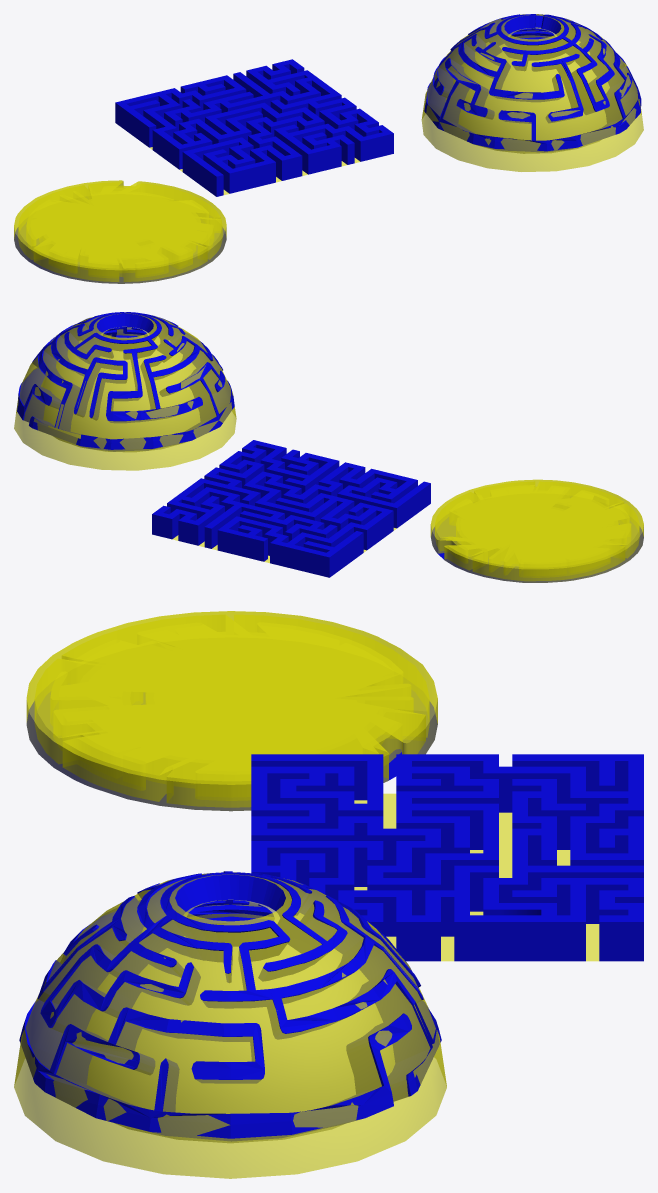
The model's file is labyrint.fbx.
3 renders of one model, top to bottom at view 1: azimuth 30°, elevation 25°; view 2: azimuth 150°, elevation 25°; view 3: azimuth 270°, elevation 25°, orthographic. The views are drawn at different scales.
Parts seen in each view (by area): view 1: polySurface4, nurbsToPoly3, extrudedSurface4, nurbsToPoly2, nurbsToPoly4, extrudedSurface3; view 2: polySurface4, nurbsToPoly3, extrudedSurface4, nurbsToPoly2, nurbsToPoly4, extrudedSurface3; view 3: nurbsToPoly3, polySurface4, nurbsToPoly2, extrudedSurface4, nurbsToPoly4, pPlane1, extrudedSurface3.
Boxes of the visible parts, x1,y1,x2,y2 form: polySurface4: (115,59,393,196); nurbsToPoly3: (421,14,643,171); extrudedSurface4: (14,180,226,283); nurbsToPoly2: (424,14,641,152); nurbsToPoly4: (446,27,609,153); extrudedSurface3: (120,239,167,264); polySurface4: (152,440,430,577); nurbsToPoly3: (14,313,236,470); extrudedSurface4: (430,479,643,582); nurbsToPoly2: (17,312,234,451); nurbsToPoly4: (41,326,200,451); extrudedSurface3: (556,490,608,513); nurbsToPoly3: (14,872,446,1178); polySurface4: (251,754,643,961); nurbsToPoly2: (19,871,441,1141); extrudedSurface4: (26,611,437,811); nurbsToPoly4: (86,899,394,1142); pPlane1: (354,793,599,961); extrudedSurface3: (50,671,142,714).
Bounding box in the file's own units: 927 × 164 × 435.
